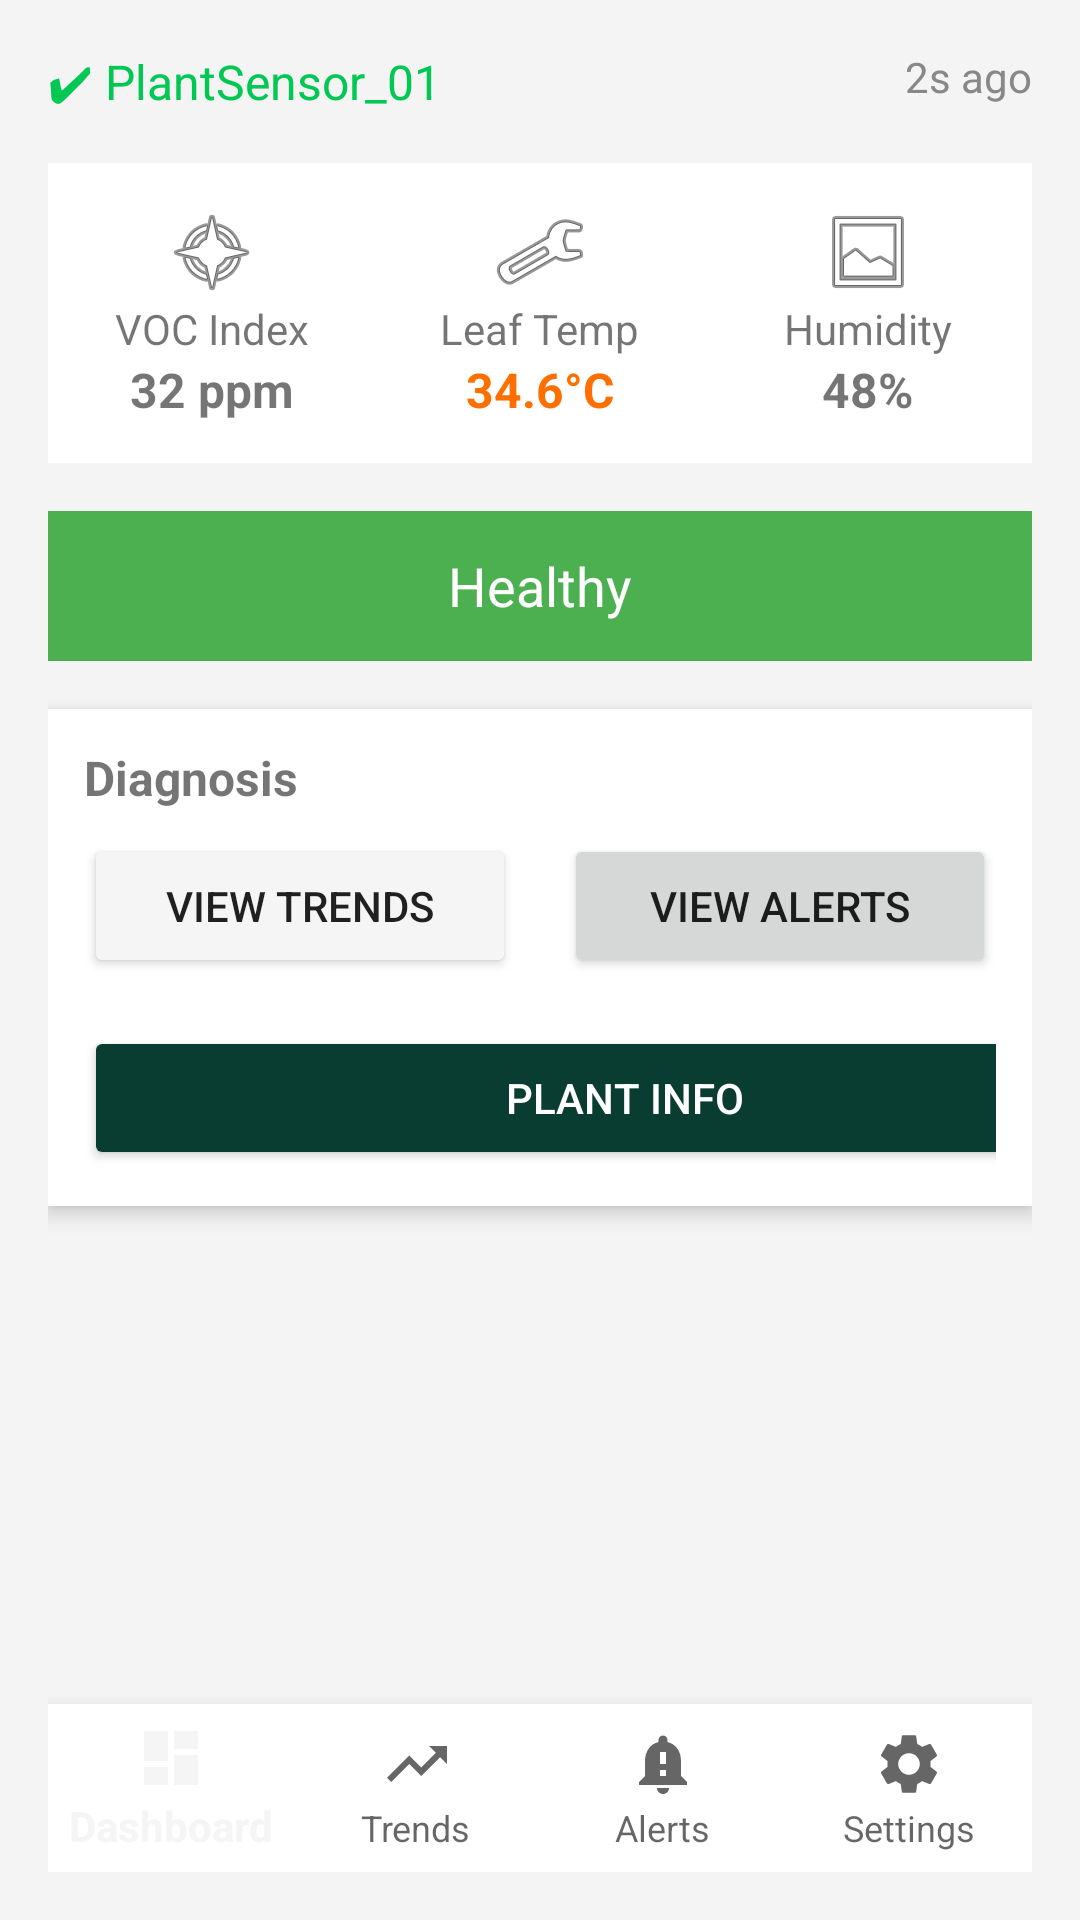

Screen size 1080w x 1920h. Icon name, then its box in pixels as bbox=(x1, y1, x2, y2):
compass: bbox=(174, 215, 250, 290)
gallery: bbox=(832, 216, 904, 288)
manage: bbox=(497, 219, 583, 285)
